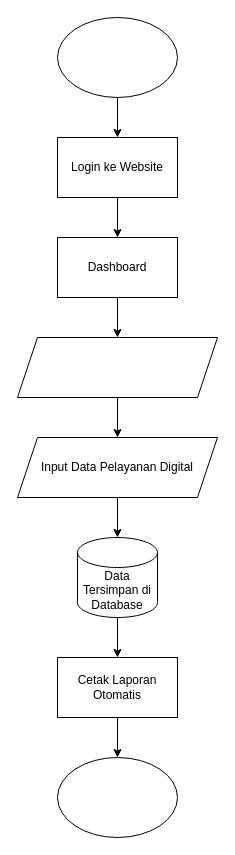
Some shapes in this 235 by 855 pixel diagram are drawn without their labels. The shapes that lost their labels are listed below. From the top down, each one's centre as x and y in pixels, then its label:
At pixel 117 57: "Start".
At pixel 117 367: "Pilih Menu Layanan (Anak / Ibu Hamil)".
At pixel 117 797: "Stop".
